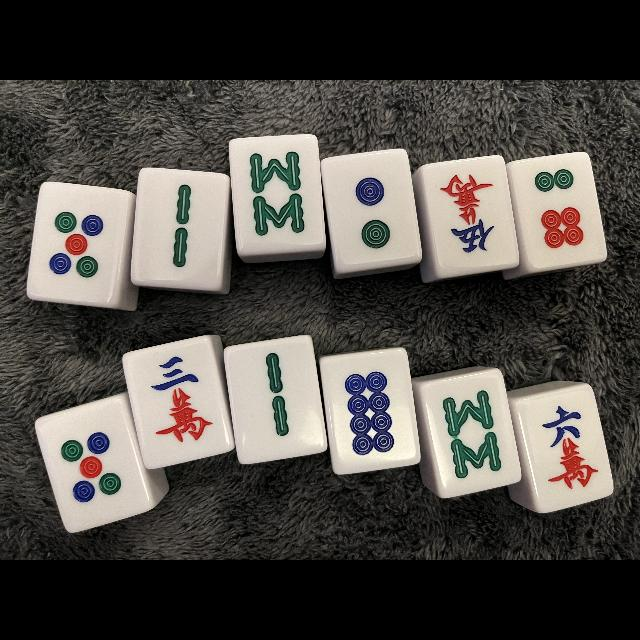b2: (232, 342, 321, 462), (136, 171, 224, 283)
b8: (235, 137, 322, 246), (432, 378, 512, 489)
c3: (134, 342, 228, 466)
c5: (429, 160, 511, 268)
c6: (527, 394, 605, 504)
d2: (328, 154, 418, 266)
d5: (33, 184, 119, 300), (50, 408, 134, 524)
d6: (518, 157, 600, 260)
d8: (328, 353, 412, 472)
